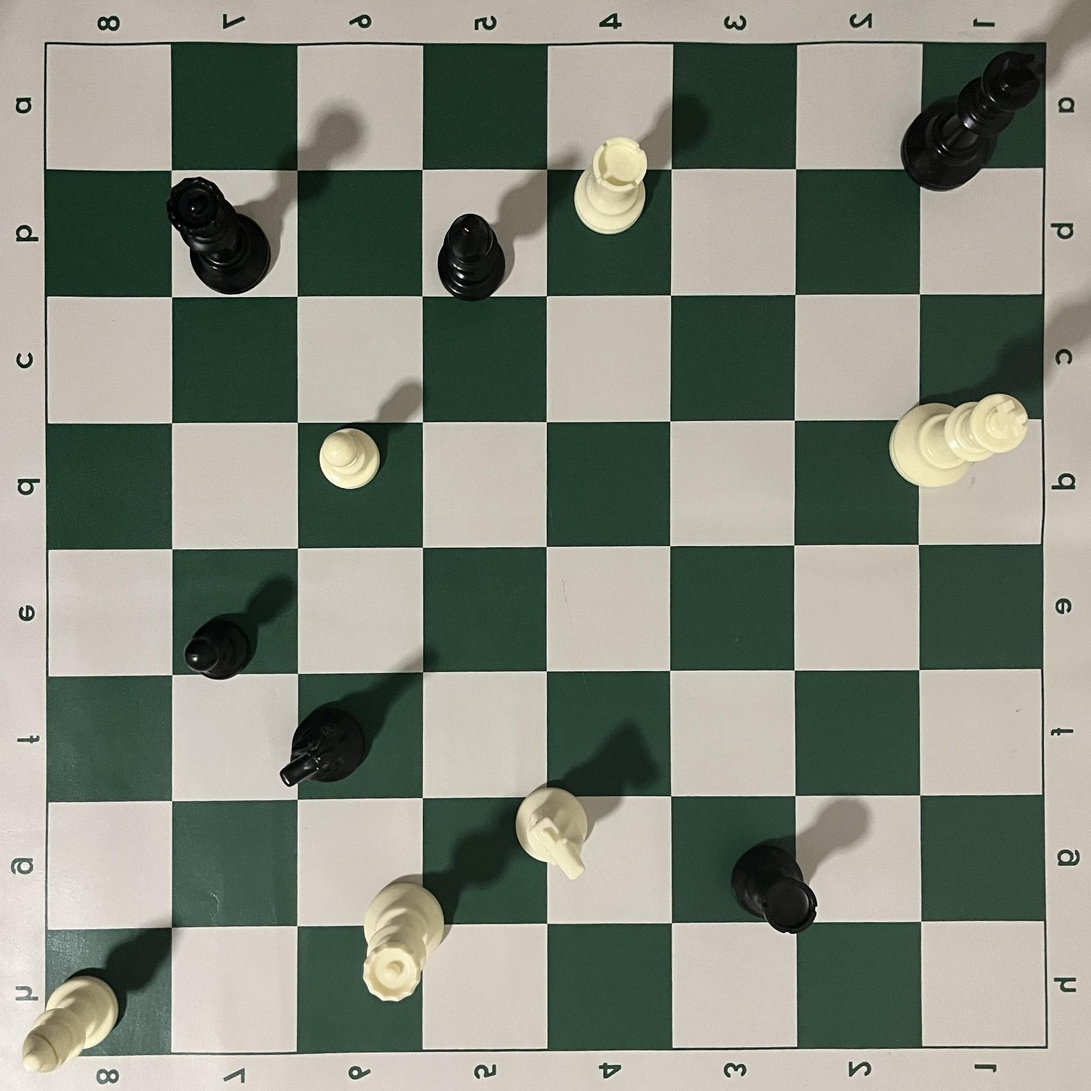black_bishop: (437, 213, 507, 301)
black_king: (900, 50, 1045, 193)
black_knight: (280, 708, 366, 787)
black_pawn: (183, 611, 253, 681)
black_queen: (166, 177, 271, 295)
black_rook: (730, 837, 817, 936)
white_bishop: (21, 973, 119, 1073)
white_king: (888, 394, 1029, 490)
white_knight: (516, 787, 589, 881)
white_pawn: (318, 426, 382, 490)
white_queen: (362, 883, 445, 1003)
white_rook: (573, 137, 650, 235)
